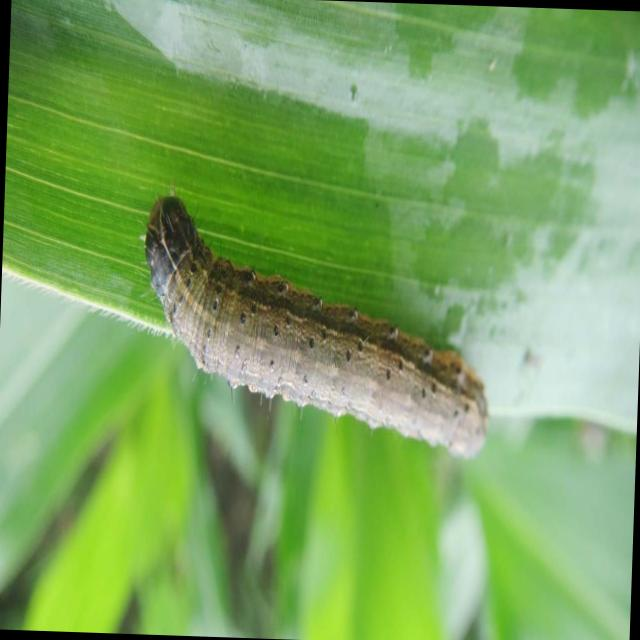worm: (136, 189, 510, 471)
